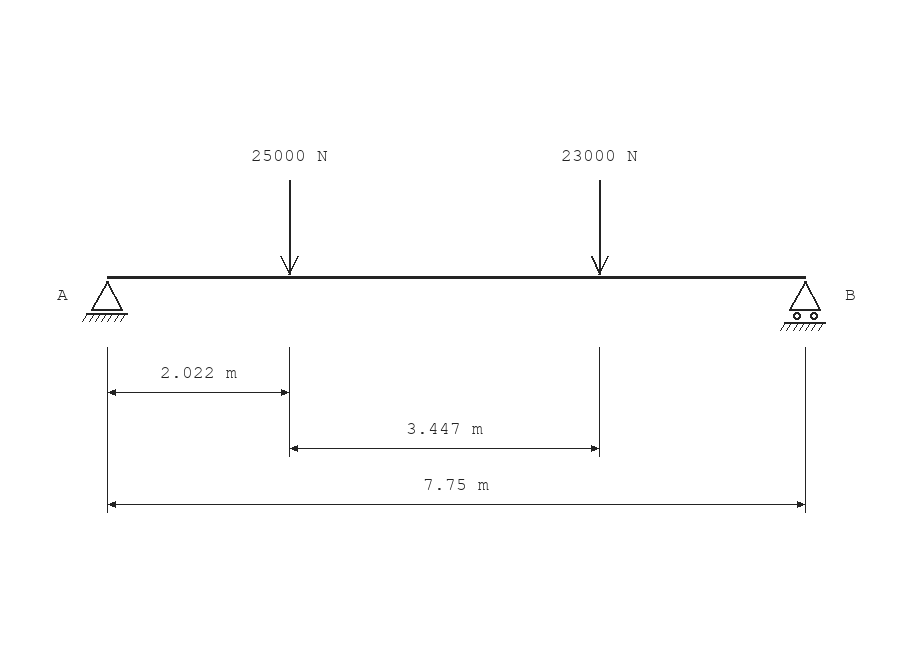pin_support: (82, 281, 128, 322)
point_load: (280, 180, 299, 275), (591, 180, 609, 275)
roller_support: (780, 281, 826, 331)
